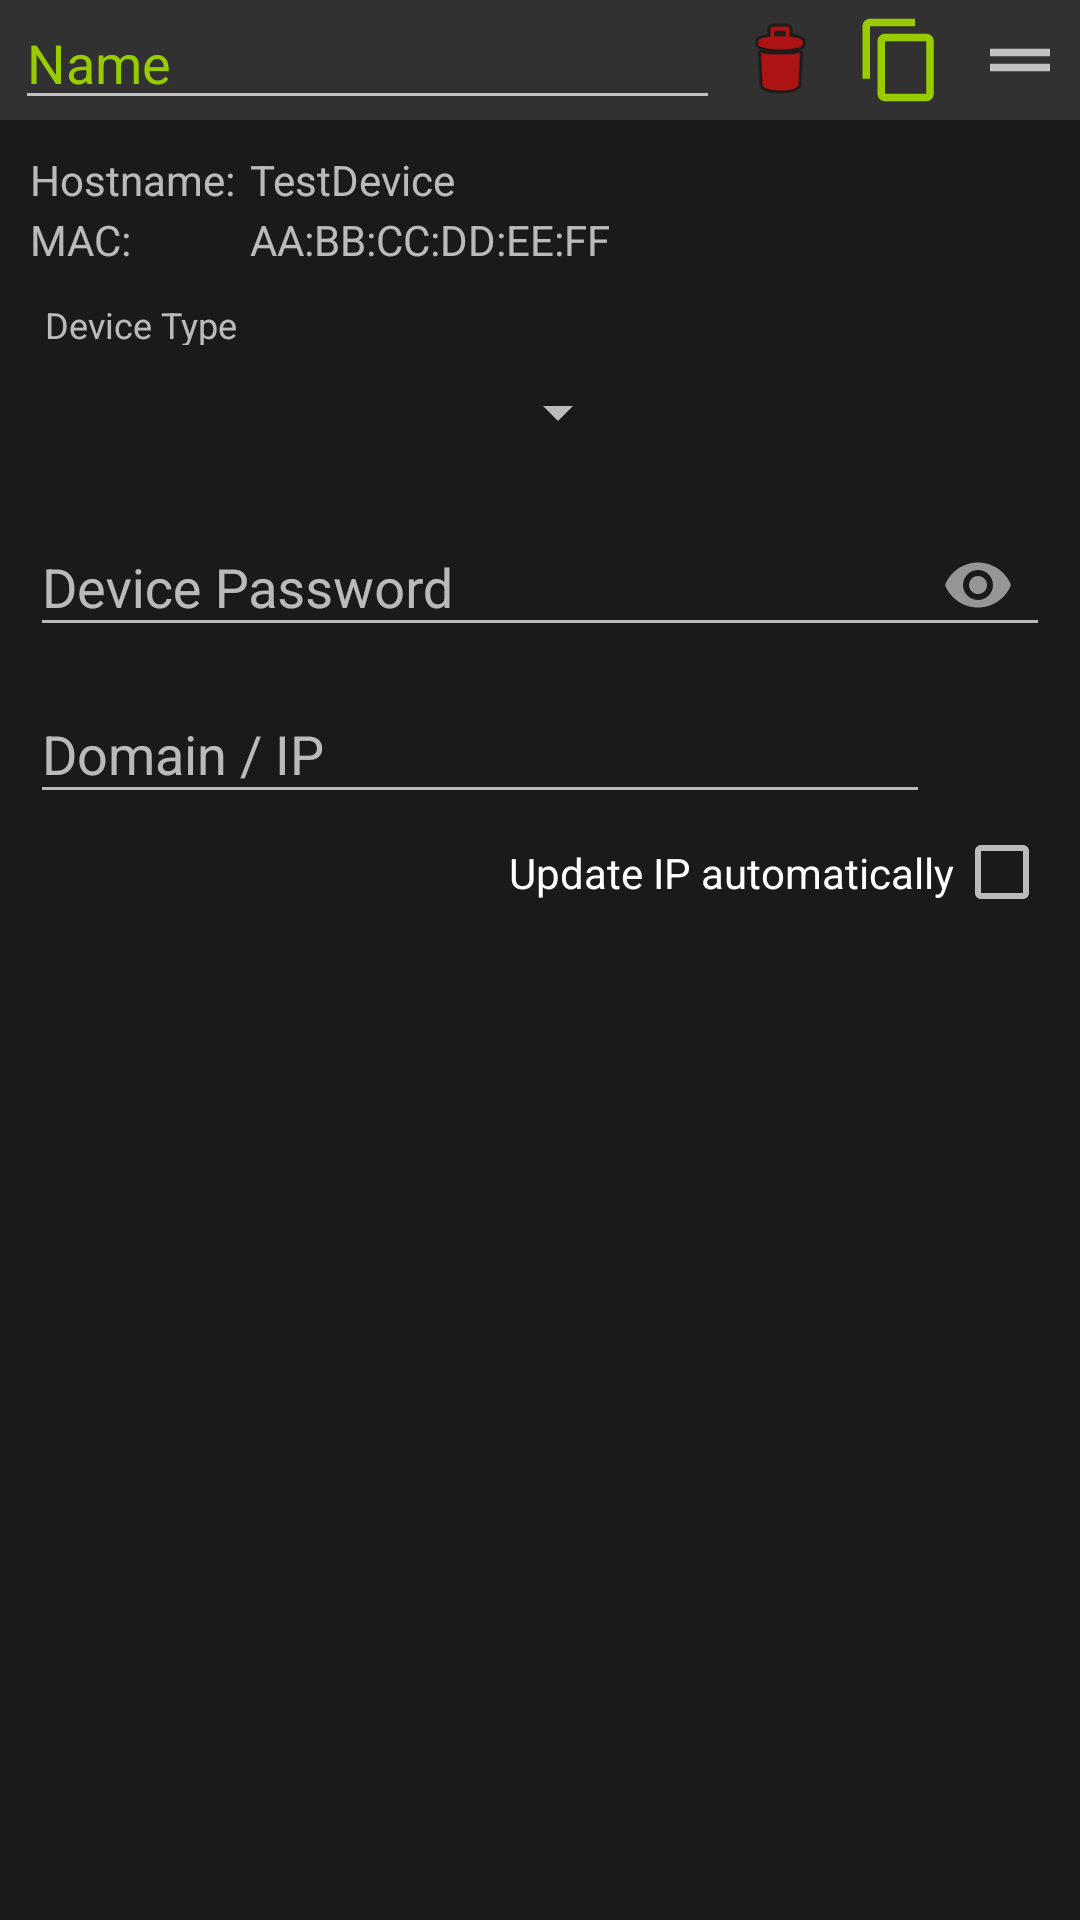

Icons on this 1080px×1920px Android screen, each with the point to tap as [x,y]:
delete: [780,59]
drag handle: [1020,60]
